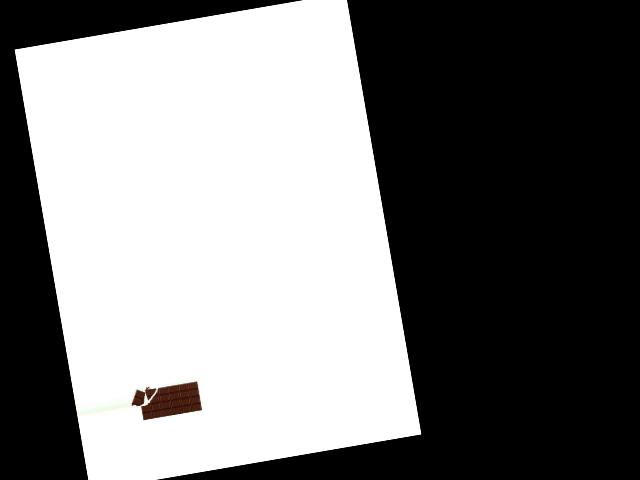chocolate: (127, 372, 203, 426)
